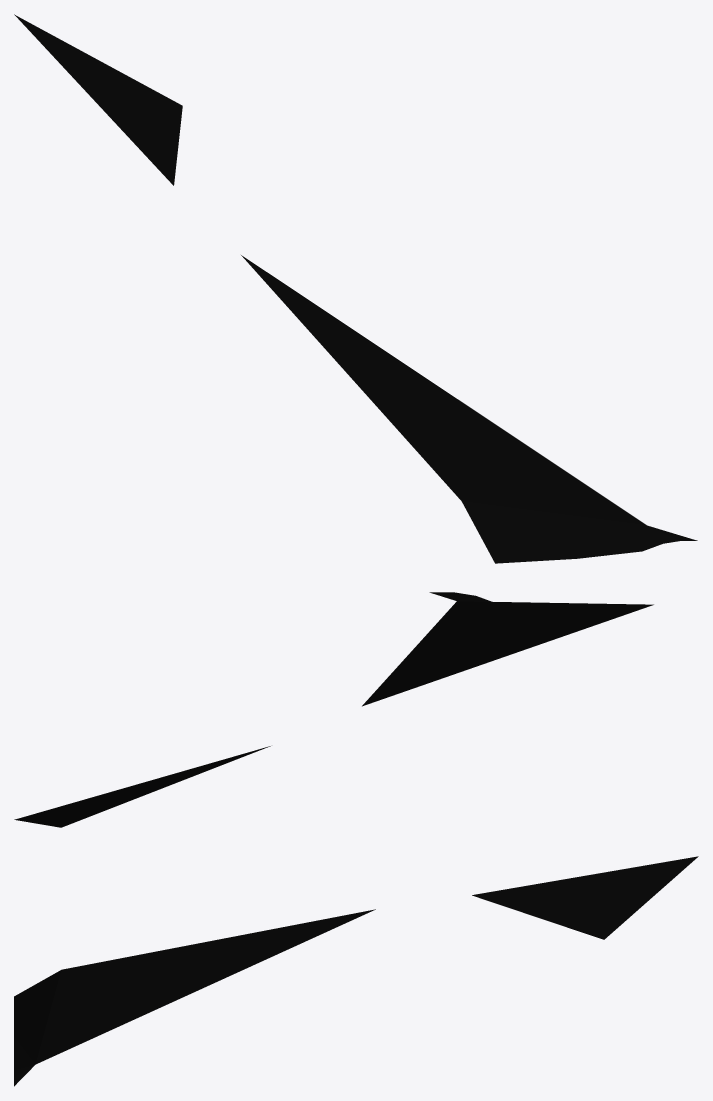
3 views of the same model, one above another, from view 1: azimuth 30°, elevation 25°; view 2: azimuth 150°, elevation 25°; view 3: azimuth 270°, elevation 25° (orthographic). The views are drawn at different scales.
Size of the model in its own units: 0.3625 by 0.3812 by 1.48.
Materials: 1 (1 with a texture image).
